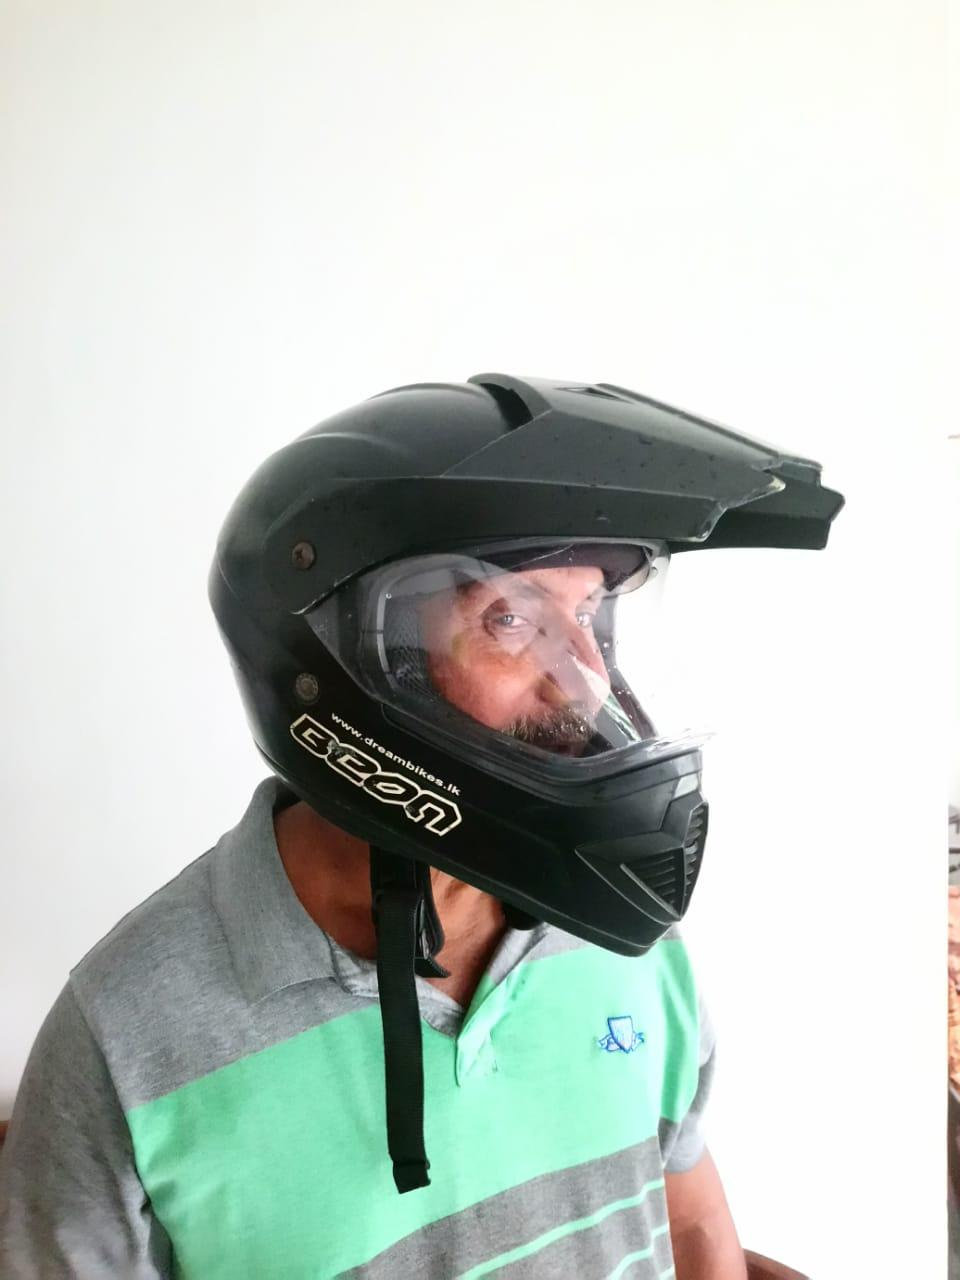helmet: (208, 362, 849, 958)
